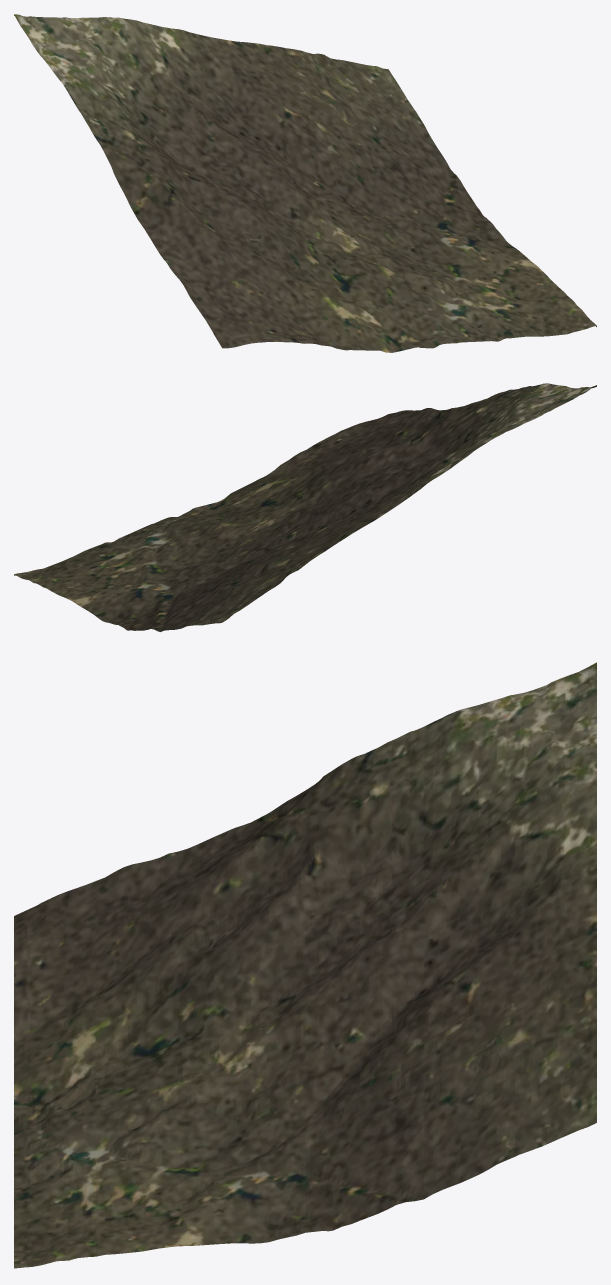
The picture shows the model from 3 angles, top to bottom: view 1: azimuth 30°, elevation 25°; view 2: azimuth 210°, elevation 25°; view 3: azimuth 270°, elevation 25°; orthographic projection. The views are drawn at different scales.
Bounding box in the file's own units: 250 × 161 × 241.
1 material, 1 textured.
